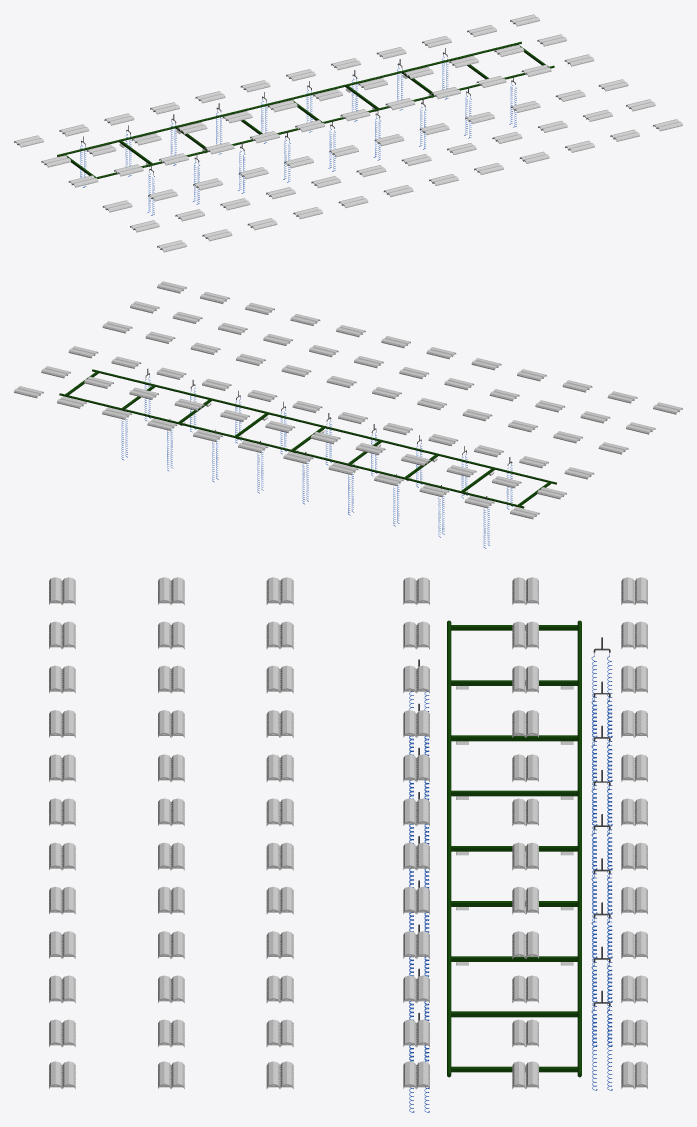
File: Ceiling_Accessories.fbx
The picture shows the model from 3 angles, top to bottom: view 1: azimuth 30°, elevation 25°; view 2: azimuth 150°, elevation 25°; view 3: azimuth 270°, elevation 25°; orthographic projection. The views are drawn at different scales.
Visible parts, largest first — view 1: hose, overheadBeam, overheadCross; view 2: overheadBeam, hose, overheadCross; view 3: overheadCross, overheadBeam, hose, overheadHose.
Boxes of the visible parts, x1=… form: hose: x1=80, y1=54, x2=516, y2=215; overheadBeam: x1=57, y1=41, x2=554, y2=178; overheadCross: x1=62, y1=43, x2=548, y2=177; overheadBeam: x1=59, y1=369, x2=556, y2=508; hose: x1=121, y1=375, x2=512, y2=548; overheadCross: x1=65, y1=371, x2=551, y2=505; overheadCross: x1=451, y1=625, x2=577, y2=1072; overheadBeam: x1=447, y1=620, x2=581, y2=1077; hose: x1=409, y1=653, x2=612, y2=1112; overheadHose: x1=418, y1=637, x2=610, y2=1020.
Size of the model in its own units: 2797 by 269 by 1398.
